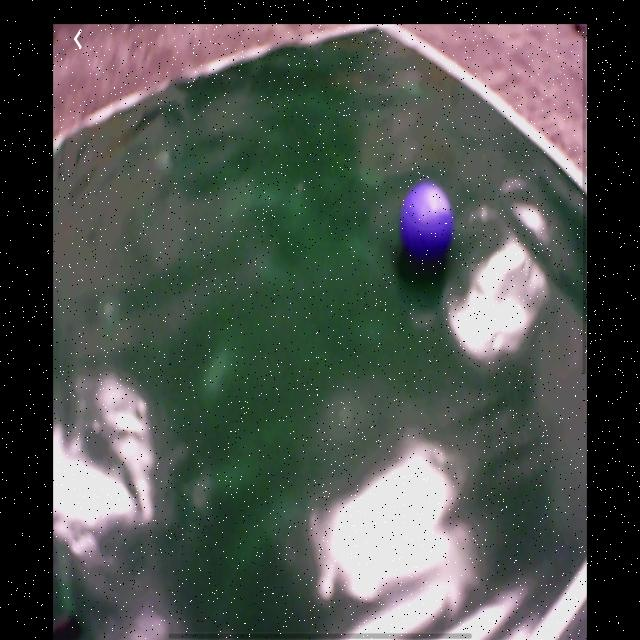ball: (401, 183, 455, 264)
